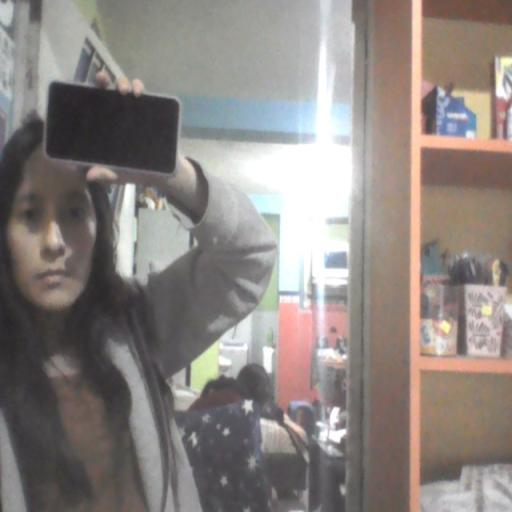phone: (32, 82, 187, 181)
